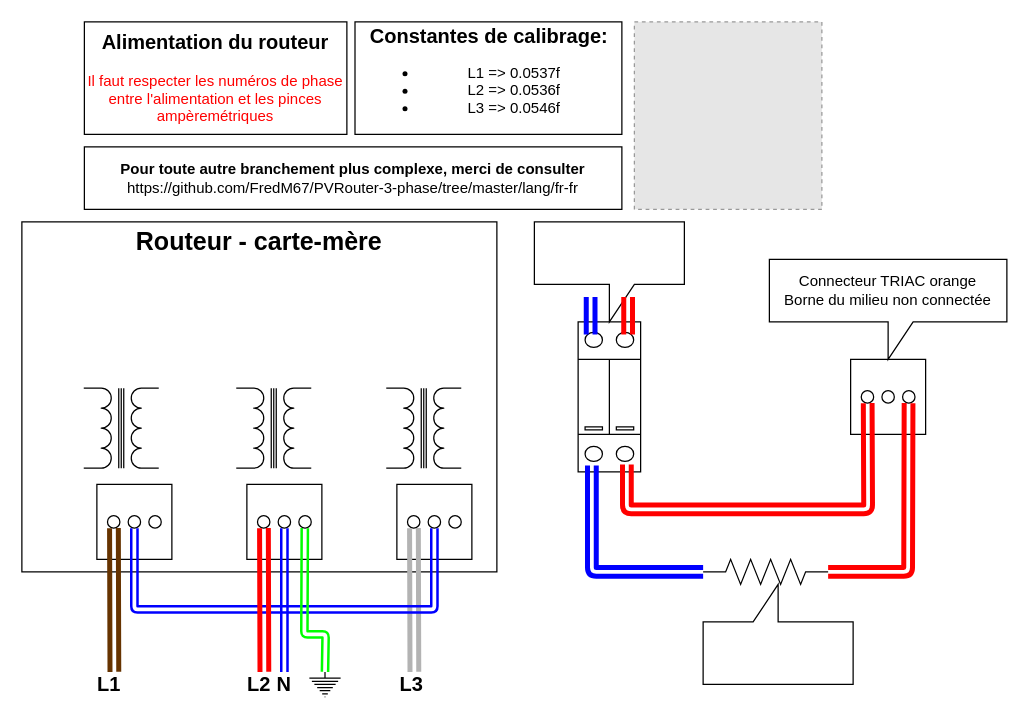
This 1029x719 diagram has some shape labels left out. Grey dashed boxes stand in for pictures. The centre of each missing label's shape, as x and y in pixels:
Charge #n: (x=777, y=633)
Disjoncteur Charge #n: (x=608, y=271)
